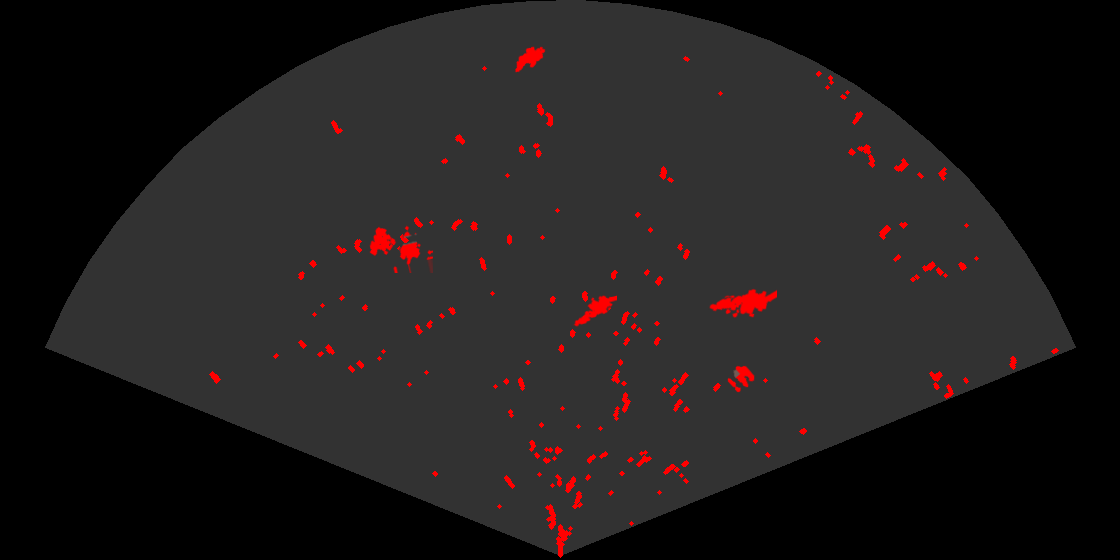AUV: (513, 45, 547, 74)
ball: (726, 364, 756, 394), (718, 294, 745, 319)
cage: (368, 224, 433, 273)
frogman: (708, 287, 777, 319), (571, 294, 617, 328)
